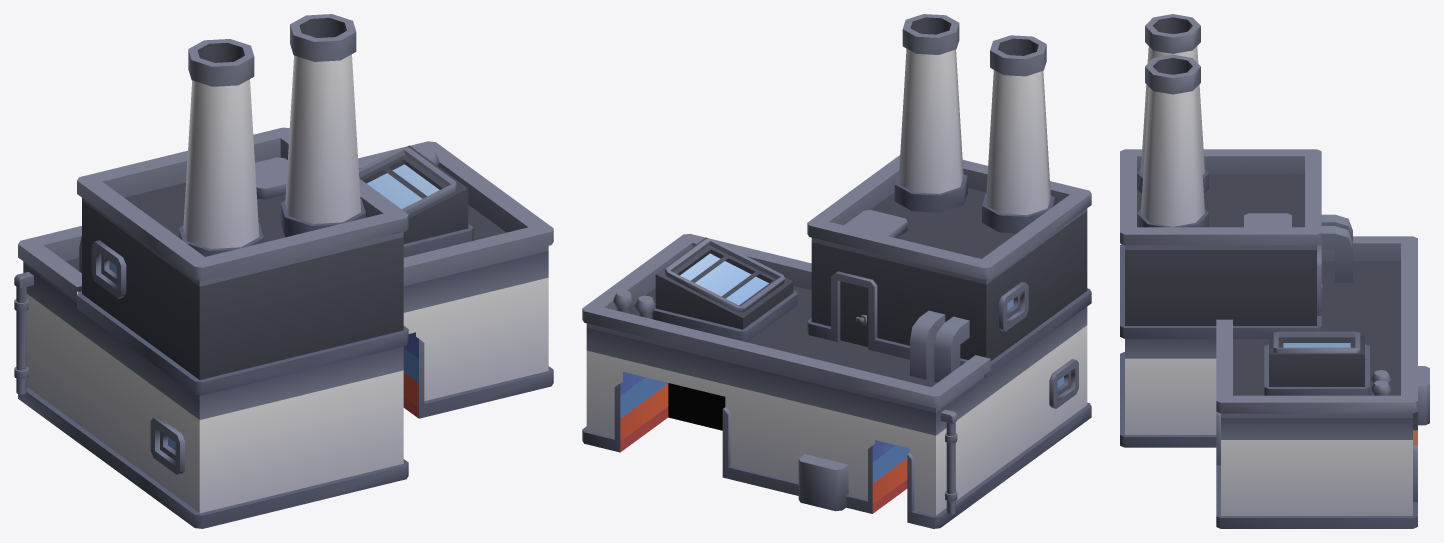
File: building-e-enterable.glb
The picture shows the model from 3 angles, left to right: view 1: azimuth 30°, elevation 25°; view 2: azimuth 150°, elevation 25°; view 3: azimuth 270°, elevation 25°; orthographic projection. The views are drawn at different scales.
Parts seen in each view (by area): view 1: building-e-enterable; view 2: building-e-enterable; view 3: building-e-enterable.
Boxes of the visible parts, x1,y1,x2,y2 form: building-e-enterable: [14, 14, 553, 528]; building-e-enterable: [582, 14, 1091, 528]; building-e-enterable: [1120, 14, 1429, 528].
Bounding box in the file's own units: 1.68 × 1.65 × 1.29.
1 material, 1 textured.
